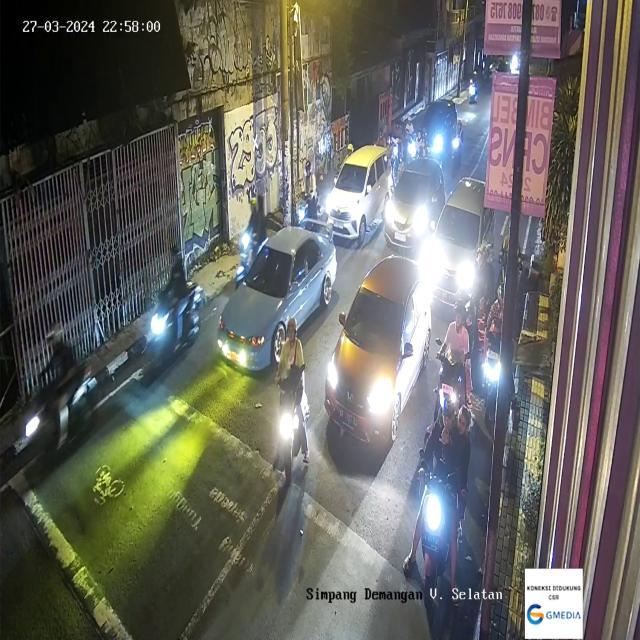car: (326, 258, 429, 463), (218, 224, 340, 374), (424, 179, 496, 300), (324, 150, 394, 256), (384, 153, 445, 263), (420, 93, 461, 176)
motorcycle: (17, 322, 100, 475), (418, 408, 470, 597), (432, 302, 482, 451), (141, 246, 204, 361), (276, 305, 305, 488), (485, 282, 517, 428), (238, 188, 266, 278), (292, 159, 321, 228)
